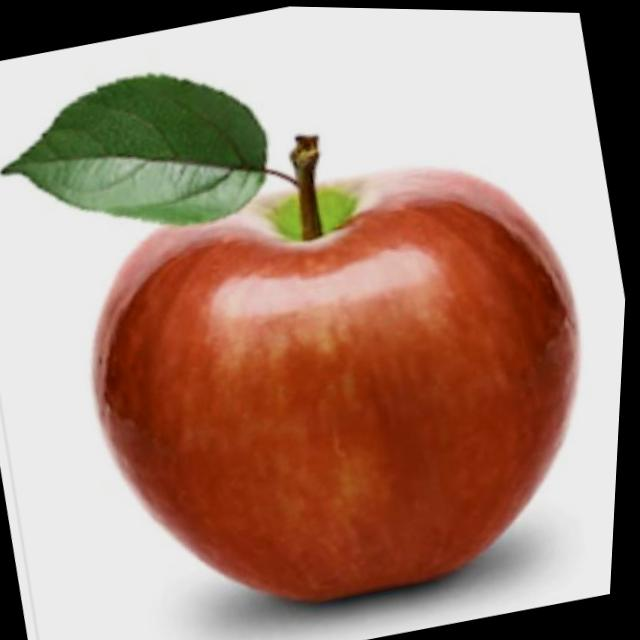Apple: (42, 85, 637, 640)
